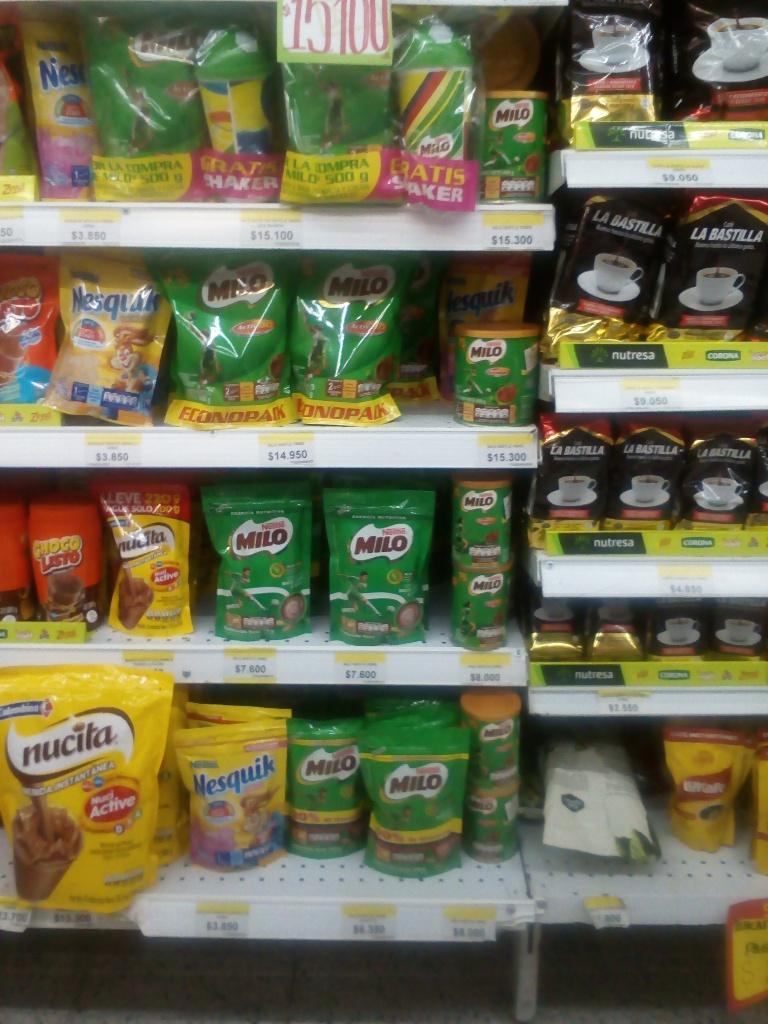COL0170103TRR30000: (34, 492, 107, 638)
COL0170104DYP20000: (2, 248, 50, 420)
COL0170203DYP25000: (211, 488, 313, 639)
COL0170203DYP50000: (88, 9, 203, 207)
COL0170203LAT20000: (452, 472, 508, 565)
COL0170203LAT40000: (458, 321, 536, 423)
COL0170305DYP20000: (175, 700, 282, 875)
COL0170306DYP20000: (53, 252, 165, 430)
